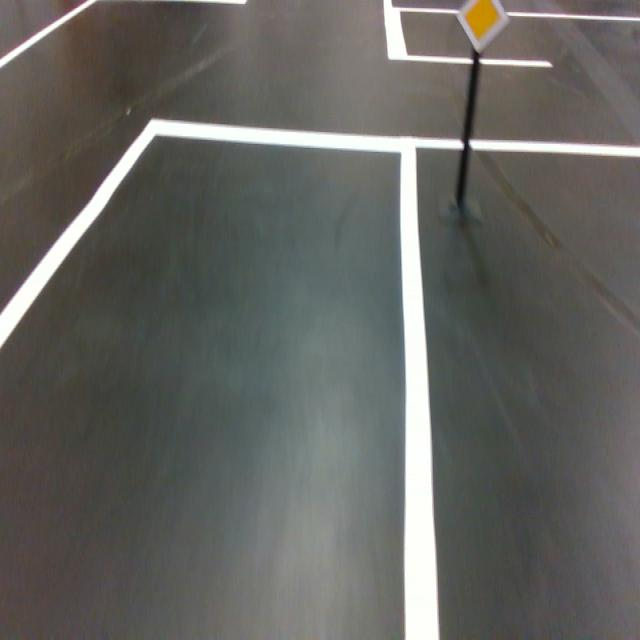priority-sign: (454, 0, 511, 56)
